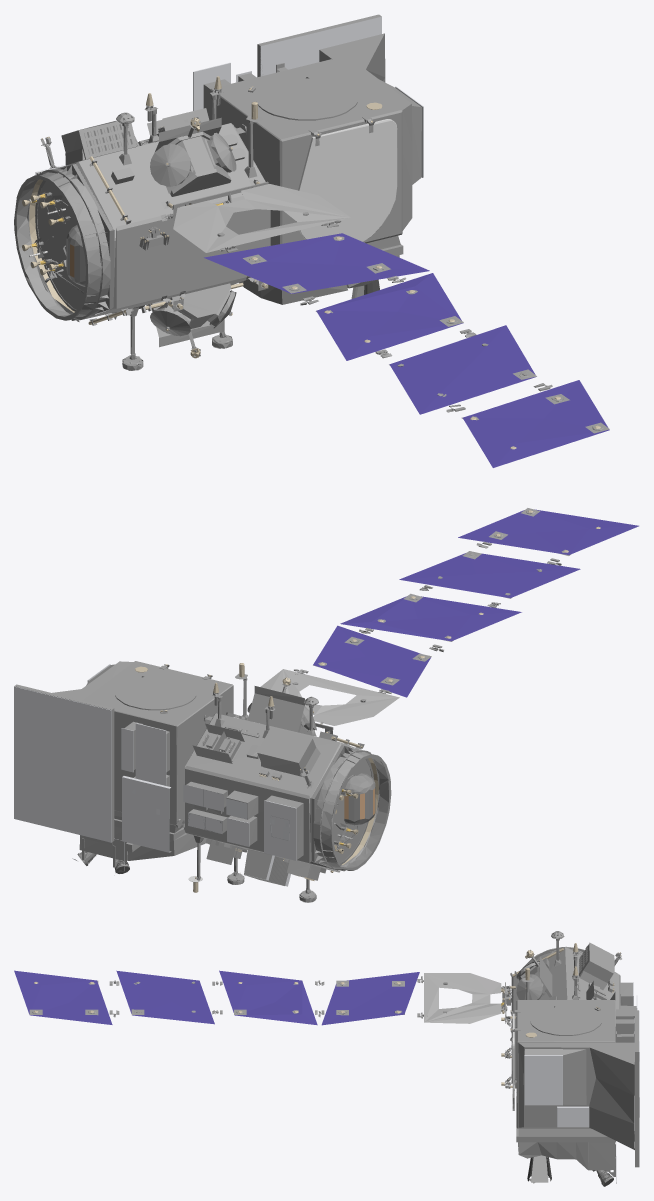
File: icesat2.glb
3 renders of one model, top to bottom at view 1: azimuth 30°, elevation 25°; view 2: azimuth 150°, elevation 25°; view 3: azimuth 270°, elevation 25°, orthographic. The views are drawn at different scales.
Visible parts, largest first — view 1: MainBus; view 2: MainBus; view 3: MainBus.
Boxes of the visible parts, <box> form: MainBus: <box>14,14,609,467</box>; MainBus: <box>14,508,638,902</box>; MainBus: <box>14,931,639,1186</box>.
Bounding box in the file's own units: 3.74 × 2.38 × 7.56.
